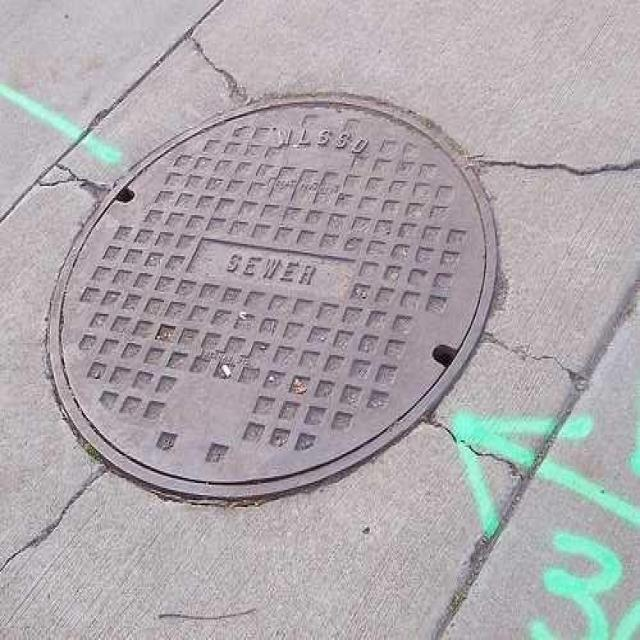manhole: (49, 97, 495, 500)
